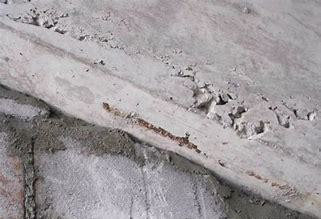Exposed reinforcement: (101, 101, 203, 154)
Spalling: (169, 63, 317, 141), (1, 6, 125, 51)
